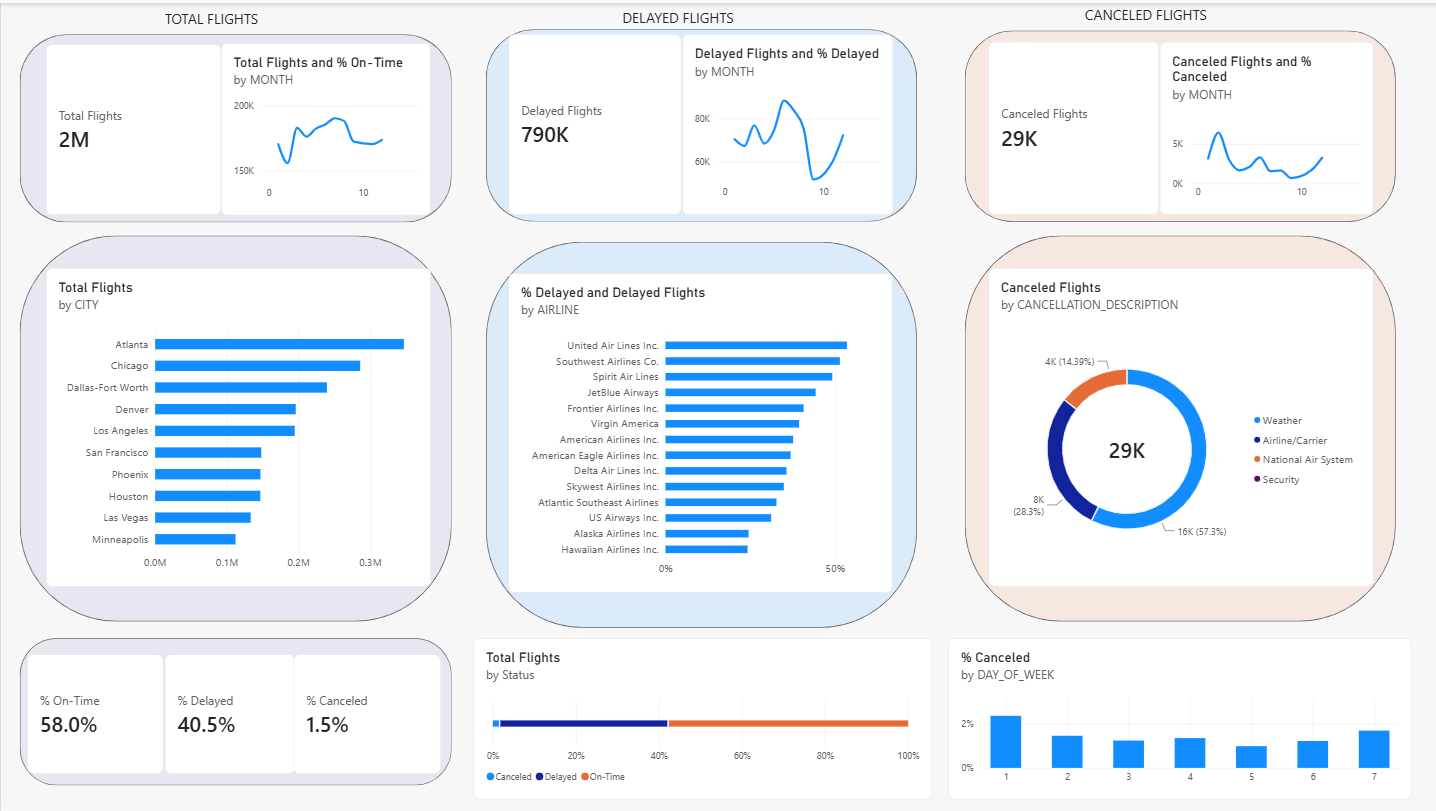

The dashboard page shown, as its layout file describes it:
{"tool":"powerbi","page":{"name":"Page 1","canvas":[1920,1080],"ordinal":0},"visuals":[{"type":"shape","box":[25.7,848.6,577.1,197.1],"z":0},{"type":"shape","box":[1287.1,310,575.7,515.7],"z":1000},{"type":"shape","box":[648.6,318.6,575.7,515.7],"z":2000},{"type":"shape","box":[25.7,310,577.1,515.7],"z":3000},{"type":"shape","box":[1287.1,37.1,575.7,255.7],"z":4000},{"type":"shape","box":[25.7,41.4,577.1,251.4],"z":5000},{"type":"shape","box":[648.6,35.7,575.7,257.1],"z":6000},{"type":"cardVisual","fields":{"Data":["flights.Total Flights"]},"box":[60,54.3,234.3,228.6],"z":7000},{"type":"lineChart","fields":{"Category":["flights.MONTH"],"Y":["flights.Total Flights"]},"box":[294.3,52.9,280,230],"z":8000},{"type":"cardVisual","fields":{"Data":["flights.Delayed Flights"]},"box":[678.6,41.4,231.4,241.4],"z":9000},{"type":"lineChart","fields":{"Category":["flights.MONTH"],"Y":["flights.Delayed Flights"]},"box":[910,41.4,281.4,241.4],"z":10000},{"type":"cardVisual","fields":{"Data":["flights.Canceled Flights"]},"box":[1318.6,51.4,228.6,231.4],"z":11000},{"type":"lineChart","fields":{"Category":["flights.MONTH"],"Y":["flights.Canceled Flights"]},"box":[1547.1,51.4,285.7,231.4],"z":12000},{"type":"cardVisual","fields":{"Data":["flights.% On-Time"]},"box":[35.7,870,182.9,160],"z":13000},{"type":"cardVisual","fields":{"Data":["flights.% Delayed"]},"box":[218,869.6,174,160],"z":14000},{"type":"cardVisual","fields":{"Data":["flights.% Canceled"]},"box":[391.4,870,197.1,160],"z":15000},{"type":"clusteredBarChart","fields":{"Category":["airports.CITY"],"Y":["flights.Total Flights"]},"box":[60,354.3,514.3,425.7],"z":16000},{"type":"clusteredBarChart","fields":{"Category":["airlines.AIRLINE"],"Y":["flights.% Delayed"]},"box":[678.6,361.4,512.9,427.1],"z":17000},{"type":"donutChart","fields":{"Category":["cancellation_codes.CANCELLATION_DESCRIPTION"],"Y":["flights.Canceled Flights"]},"box":[1318.6,354.3,514.3,425.7],"z":18000},{"type":"clusteredColumnChart","fields":{"Category":["flights.DAY_OF_WEEK"],"Y":["flights.% Canceled"]},"box":[1265.7,848.6,618.6,215.7],"z":19000},{"type":"hundredPercentStackedBarChart","fields":{"Series":["flights.Status"],"Y":["flights.Total Flights"]},"box":[631.4,848.6,612.9,215.7],"z":20000},{"type":"textbox","box":[218,8,286,30],"z":21000},{"type":"textbox","box":[830,6,160,36],"z":22000},{"type":"textbox","box":[1448,4,196,40],"z":23000}]}

Visuals, with their boxes in screenshot pixels (x1, y1, x2, y2), scaled from the page's 1920x1080 canvas onto the 1436x811 screenshot:
shape: box(19, 637, 451, 785)
shape: box(963, 233, 1393, 620)
shape: box(485, 239, 916, 626)
shape: box(19, 233, 451, 620)
shape: box(963, 28, 1393, 220)
shape: box(19, 31, 451, 220)
shape: box(485, 27, 916, 220)
cardVisual - flights.Total Flights: box(45, 41, 220, 212)
lineChart - flights.MONTH x flights.Total Flights: box(220, 40, 430, 212)
cardVisual - flights.Delayed Flights: box(508, 31, 681, 212)
lineChart - flights.MONTH x flights.Delayed Flights: box(681, 31, 891, 212)
cardVisual - flights.Canceled Flights: box(986, 39, 1157, 212)
lineChart - flights.MONTH x flights.Canceled Flights: box(1157, 39, 1371, 212)
cardVisual - flights.% On-Time: box(27, 653, 163, 773)
cardVisual - flights.% Delayed: box(163, 653, 293, 773)
cardVisual - flights.% Canceled: box(293, 653, 440, 773)
clusteredBarChart - airports.CITY x flights.Total Flights: box(45, 266, 430, 586)
clusteredBarChart - airlines.AIRLINE x flights.% Delayed: box(508, 271, 891, 592)
donutChart - cancellation_codes.CANCELLATION_DESCRIPTION x flights.Canceled Flights: box(986, 266, 1371, 586)
clusteredColumnChart - flights.DAY_OF_WEEK x flights.% Canceled: box(947, 637, 1409, 799)
hundredPercentStackedBarChart - flights.Status x flights.Total Flights: box(472, 637, 931, 799)
textbox: box(163, 6, 377, 29)
textbox: box(621, 5, 740, 32)
textbox: box(1083, 3, 1230, 33)
